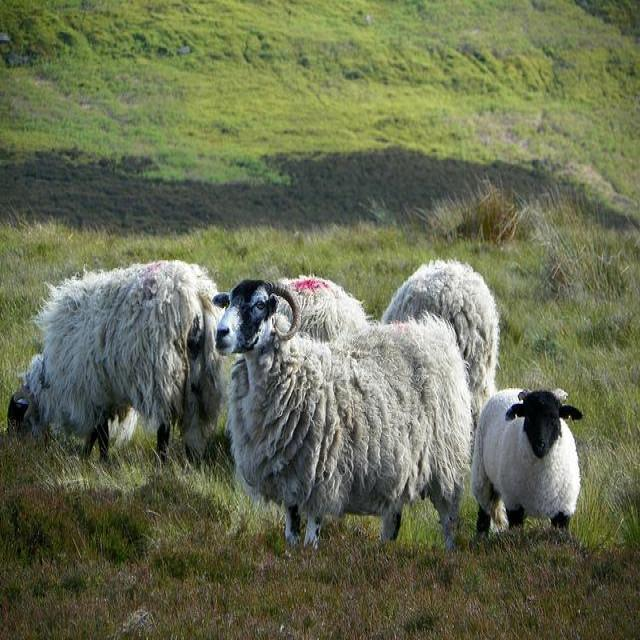Sheep: (209, 280, 474, 547), (7, 261, 224, 464), (383, 255, 500, 416), (466, 388, 586, 544), (275, 272, 383, 340)
